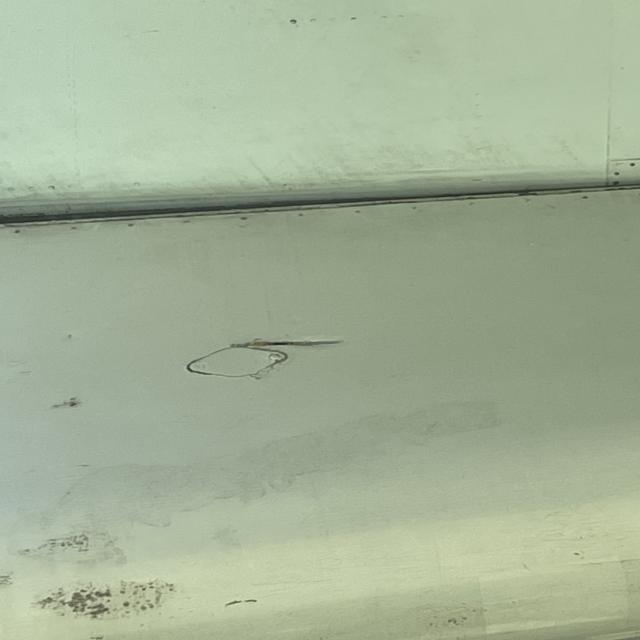crack: (221, 332, 363, 357)
